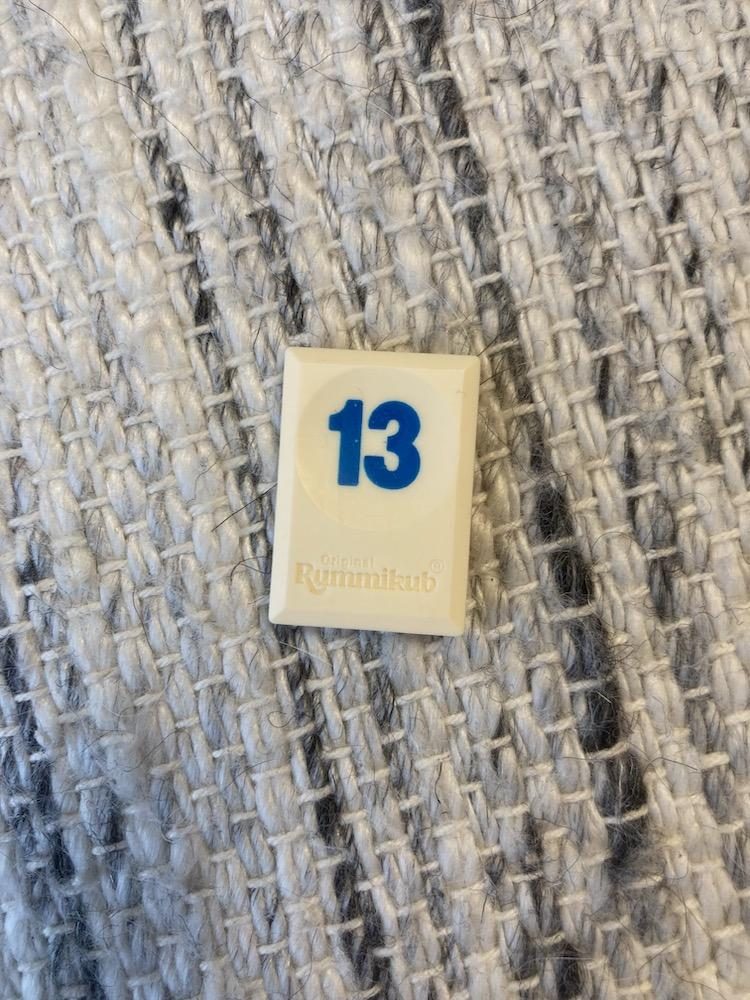blue_13: (270, 348, 479, 635)
